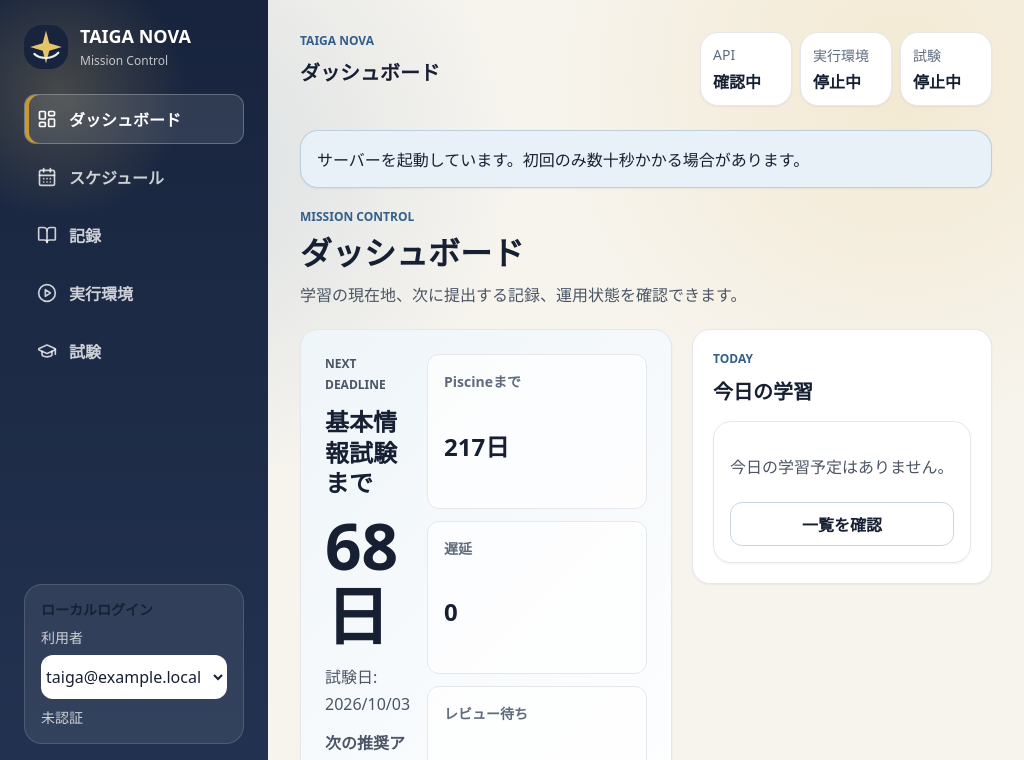
Test: App › runs the server-authoritative exam flow only when enabled
Step 1. Click the link "試験" → [69, 352], box left=37, top=341, right=101, bottom=363
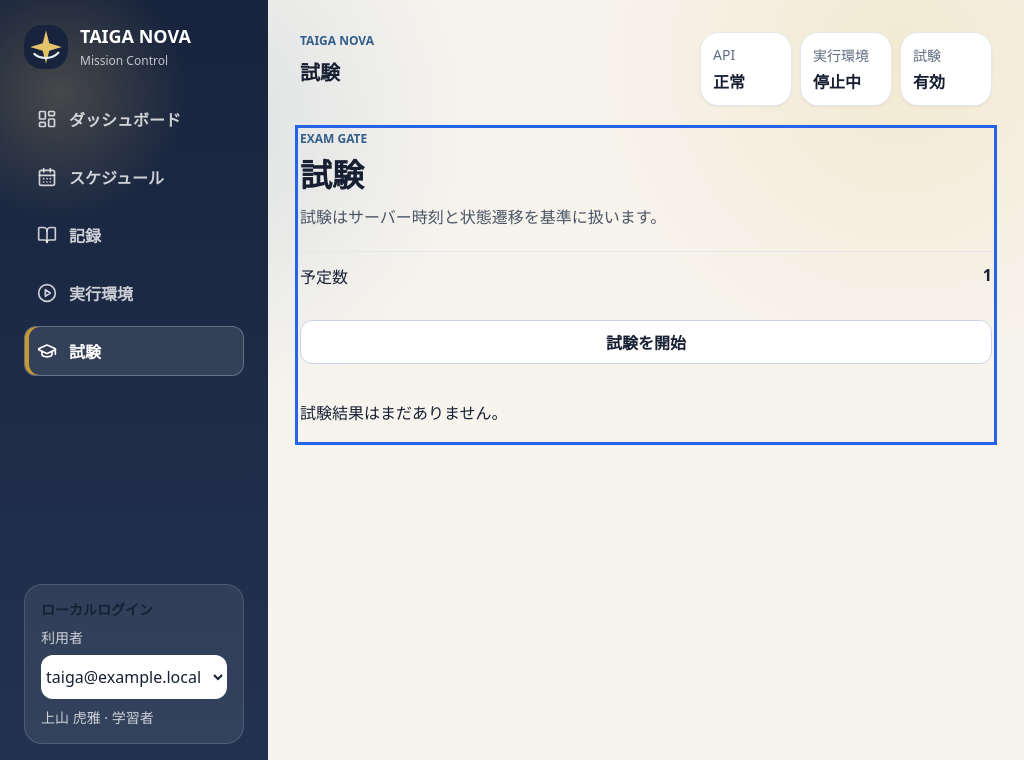
Now the button "試験を開始" is enabled
Step 2. Click the button "試験を開始" → [646, 342], box left=300, top=320, right=992, bottom=364
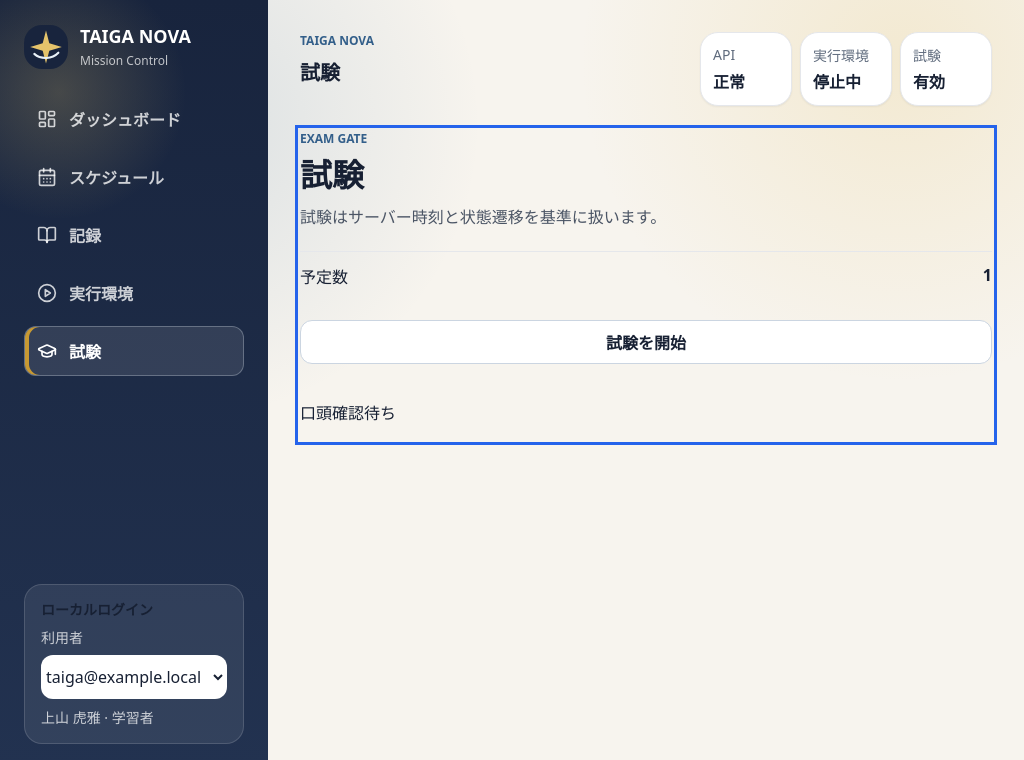
Now the text "口頭確認待ち" is shown, box left=300, top=402, right=396, bottom=424
